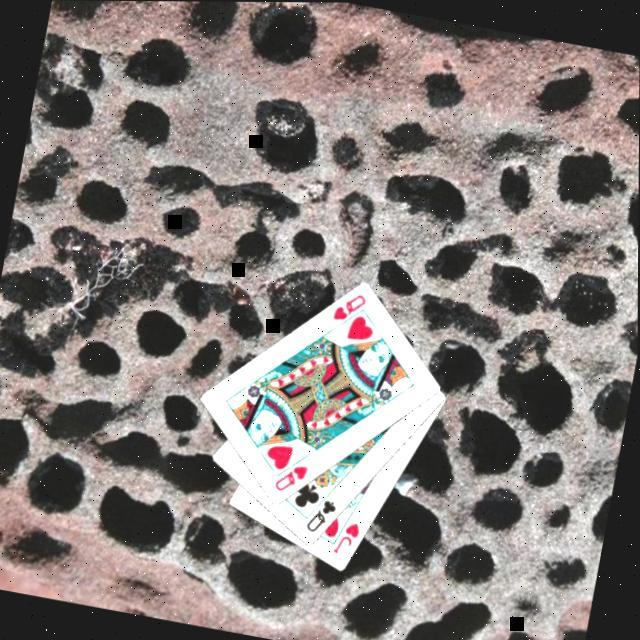JH: (331, 518, 366, 562)
QC: (304, 495, 342, 540)
QH: (328, 288, 372, 338), (272, 460, 312, 500)
